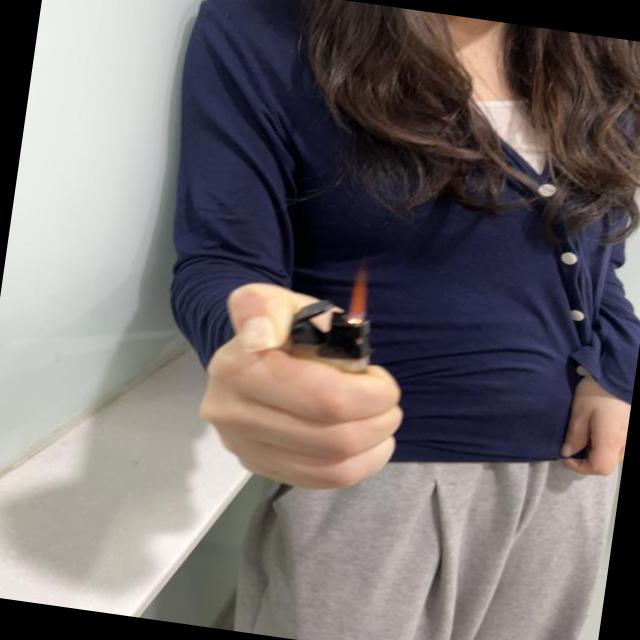Fire: (346, 264, 372, 327)
